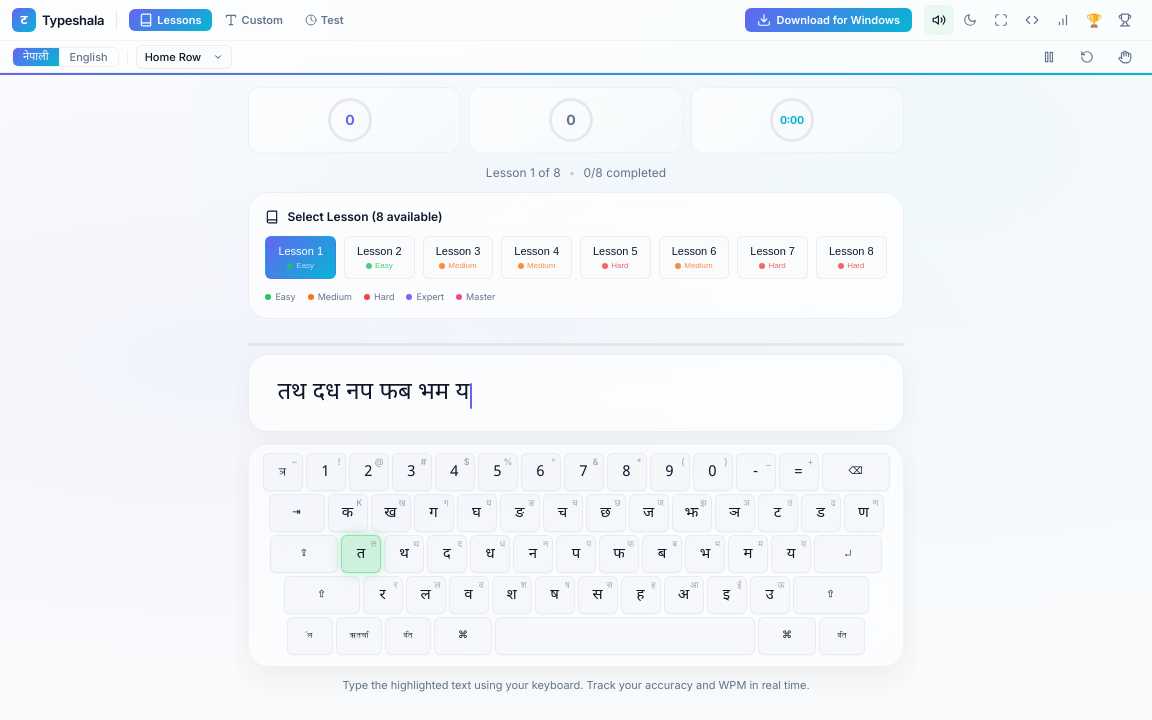
TypingTutor Integration › control buttons › toggles pause/resume
Click the button titled "Pause". click: (1049, 56)
box: [1034,42,1064,72]
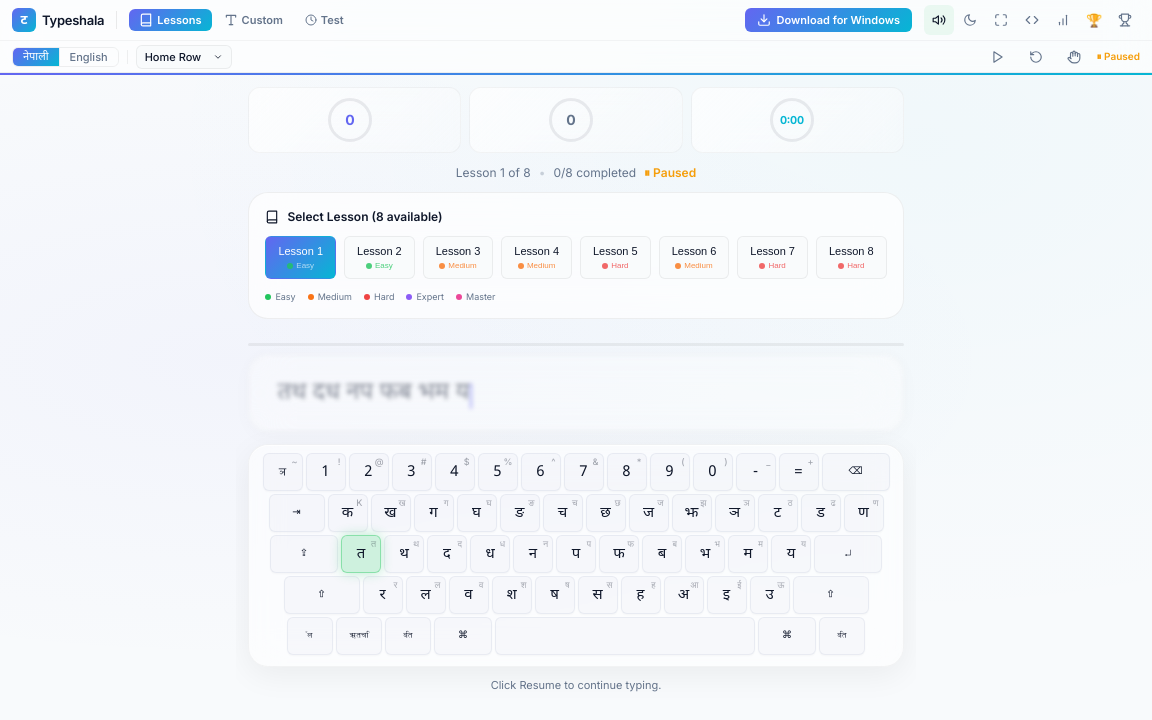
Expected: the button titled "Resume" is shown, [983,42,1013,72]
